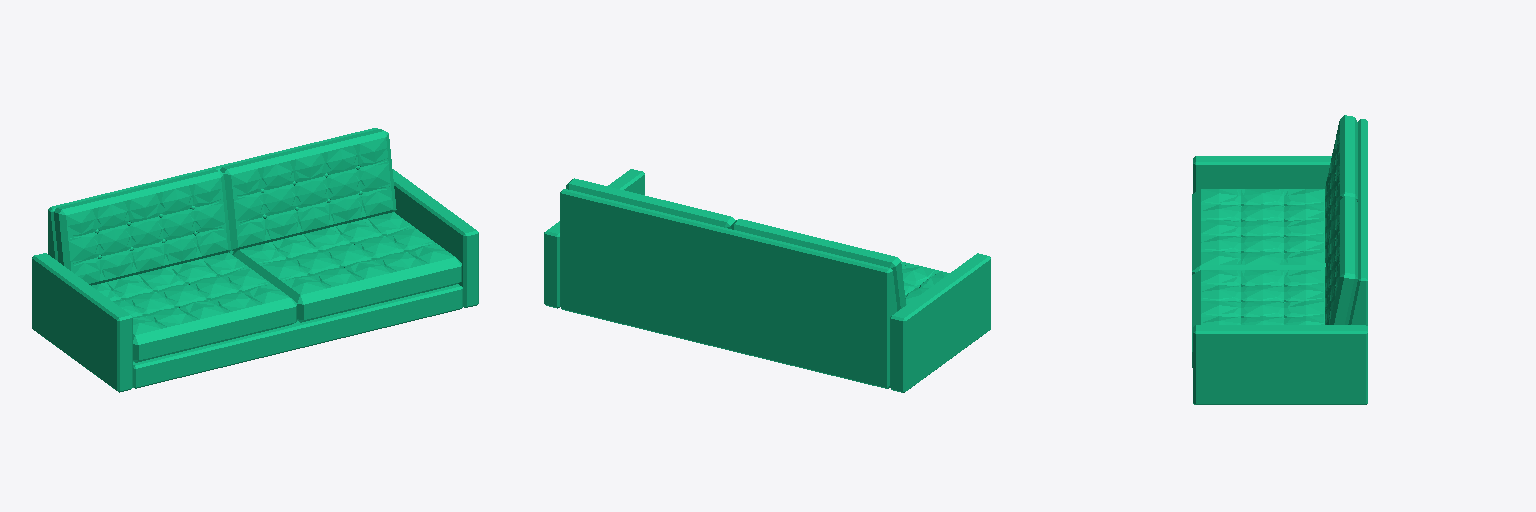
File: sofaBlue.obj
The picture shows the model from 3 angles: view 1: azimuth 30°, elevation 25°; view 2: azimuth 150°, elevation 25°; view 3: azimuth 270°, elevation 25°; orthographic projection.
Visible parts, largest first — view 1: sofa_sofa_TEXTILE_generic; view 2: sofa_sofa_TEXTILE_generic; view 3: sofa_sofa_TEXTILE_generic.
Part boxes in pixels (bbox=[...]): sofa_sofa_TEXTILE_generic: bbox=[32, 128, 478, 392]; sofa_sofa_TEXTILE_generic: bbox=[544, 169, 990, 392]; sofa_sofa_TEXTILE_generic: bbox=[1192, 115, 1367, 404].
Bounding box in the file's own units: 14.33 × 4.7 × 6.05.